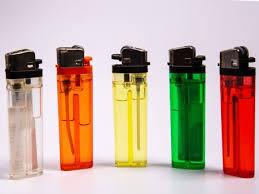lighter: (6, 47, 46, 181), (219, 48, 259, 180), (168, 46, 206, 172), (56, 46, 93, 173), (113, 47, 148, 169)
